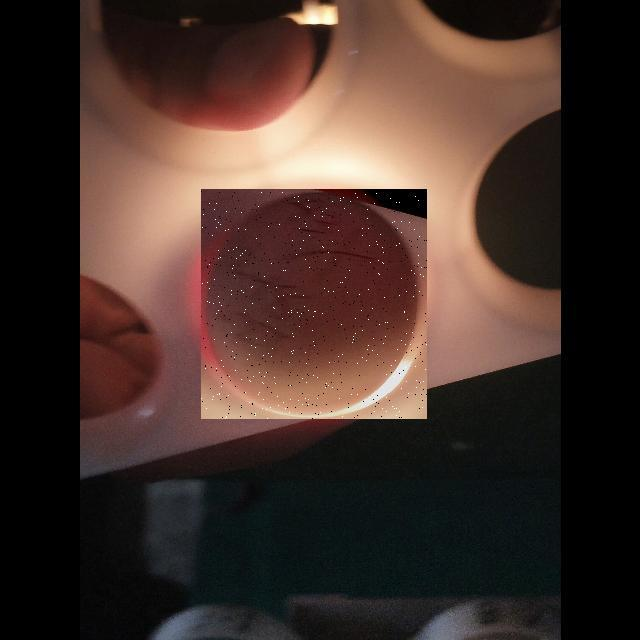Fertile: (201, 189, 427, 419)
